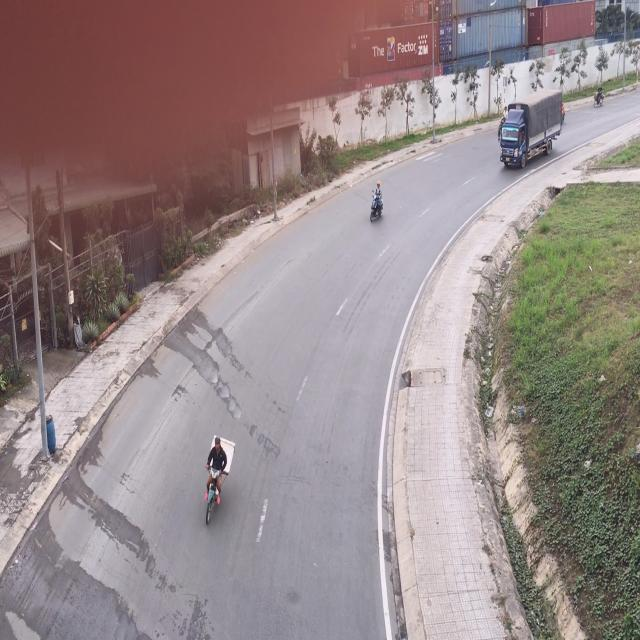motorbike: (206, 437, 229, 528), (368, 180, 384, 223)
truck: (501, 92, 565, 174)
